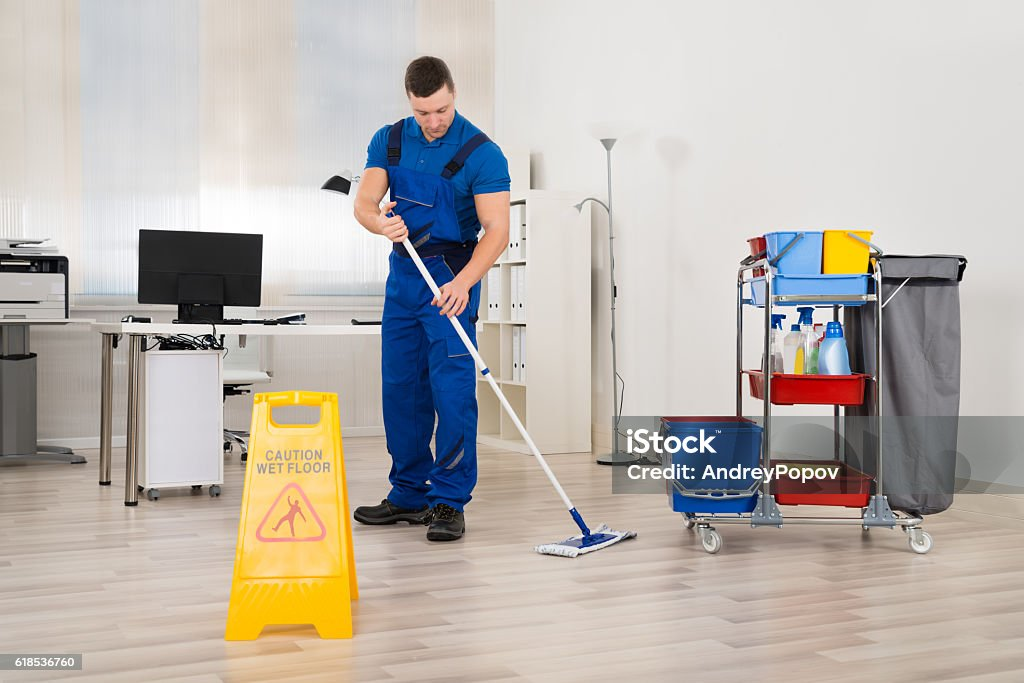wet caution sign: (217, 375, 367, 656)
